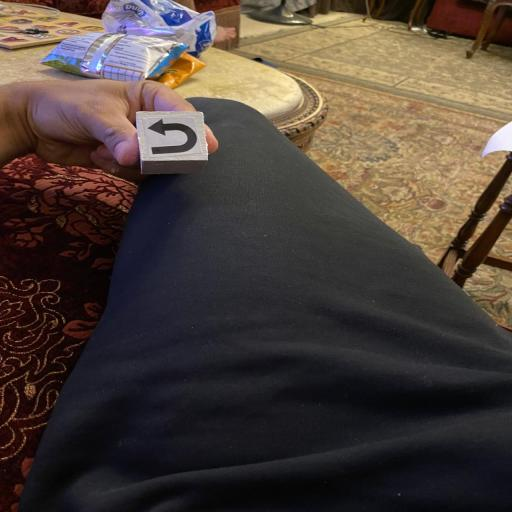Undo: (132, 110, 210, 175)
